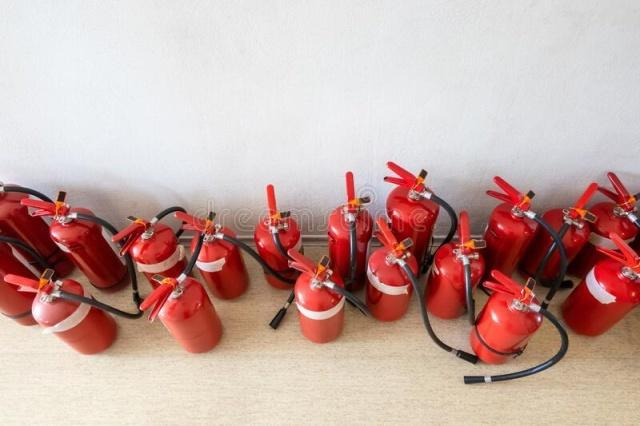APAR: (19, 195, 131, 292), (3, 272, 119, 354), (559, 231, 639, 339), (467, 267, 543, 365), (421, 211, 484, 321), (173, 211, 249, 299), (140, 275, 223, 354), (111, 216, 194, 293), (382, 160, 439, 271), (482, 175, 537, 285), (325, 171, 372, 292), (286, 248, 345, 343), (364, 217, 417, 321), (253, 185, 305, 288)
